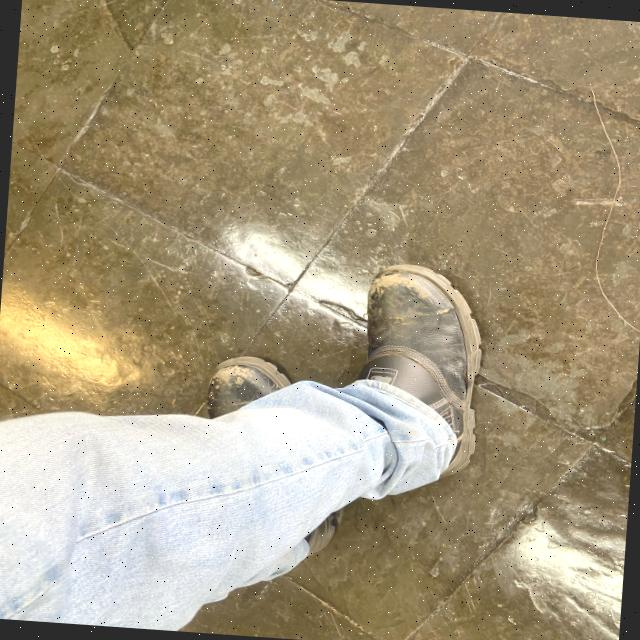BOTA: (188, 358, 349, 559), (355, 258, 482, 478)
